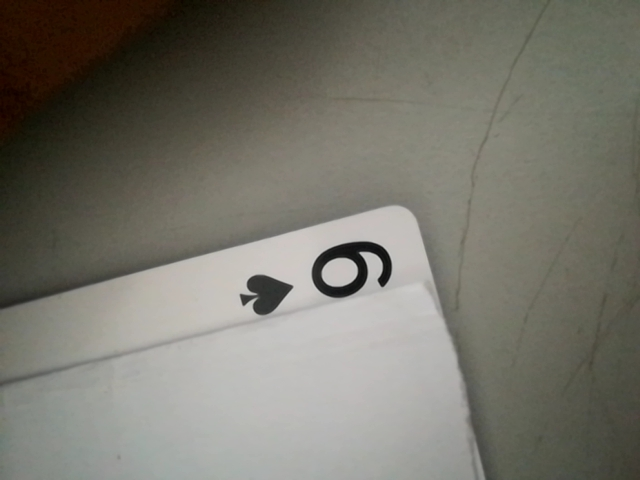ht 6: (227, 231, 414, 313)
